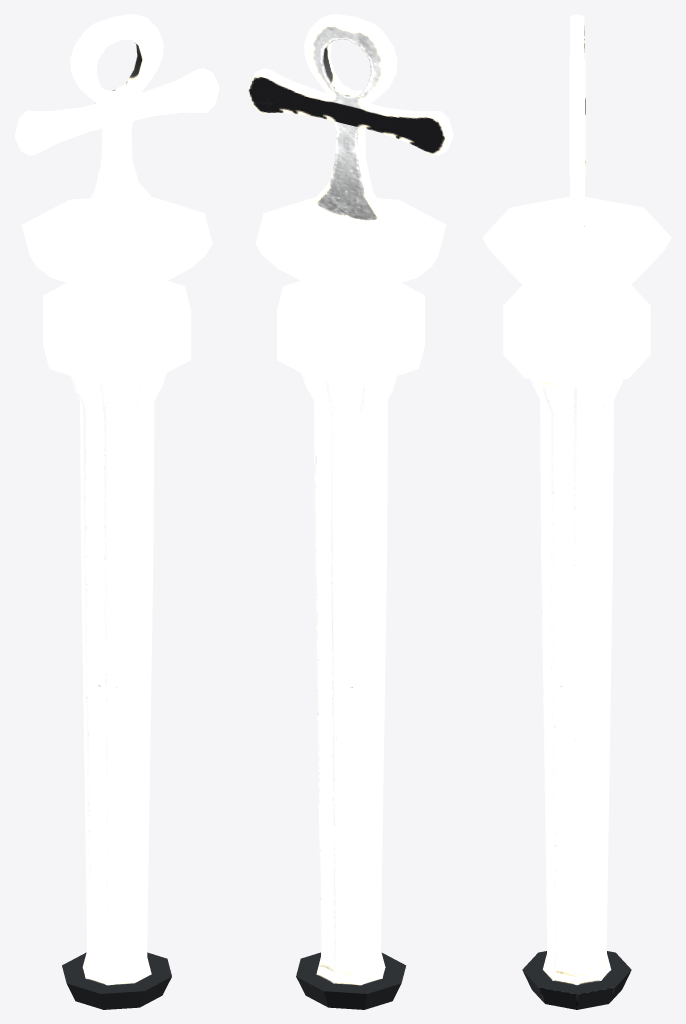
File: 3amod1.fbx
3 views of the same model, side by side, from view 1: azimuth 30°, elevation 25°; view 2: azimuth 150°, elevation 25°; view 3: azimuth 270°, elevation 25° (orthographic).
Visible parts, largest first — view 1: Object_2; view 2: Object_2; view 3: Object_2.
Boxes of the visible parts, left/top/right/bottom form: Object_2: left=14, top=14, right=219, bottom=1009; Object_2: left=248, top=14, right=453, bottom=1009; Object_2: left=482, top=14, right=671, bottom=1009.
Size of the model in its own units: 4042 by 18361 by 3258.
Materials: 1 (1 with a texture image).
